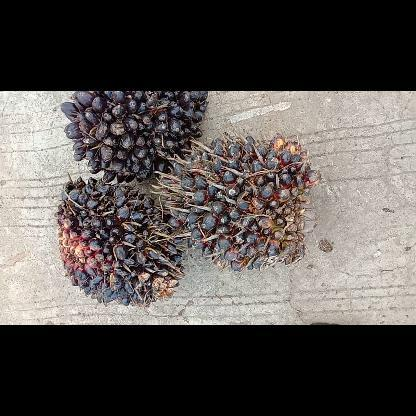TBS mentah: (157, 134, 322, 270), (54, 175, 190, 308), (56, 92, 209, 186)
